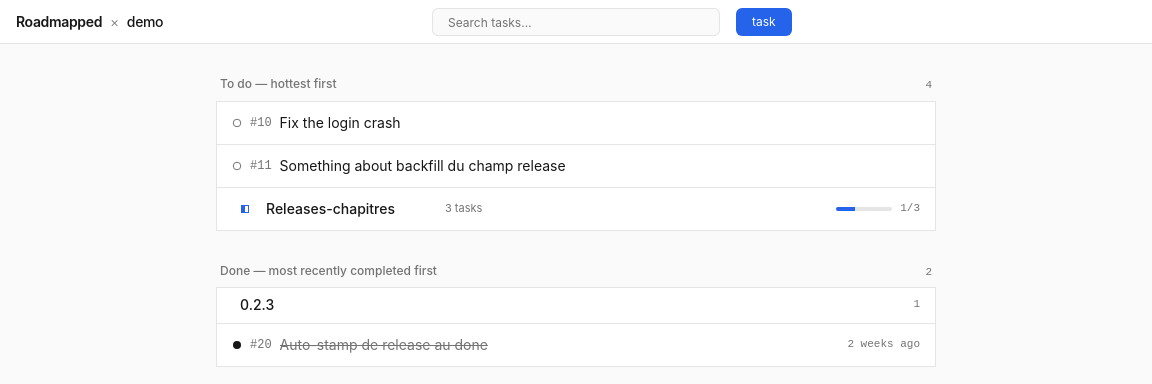
Test: Backlog search (#348) › un ticket OUVERT matché DANS un epic est VISIBLE en recherche (epic déplié, #348)
The width and height of the screenshot is (1152, 384).
Type "Backfill épique" into the field labelled "Search tasks" at (580, 22), box [448,16,712,28]
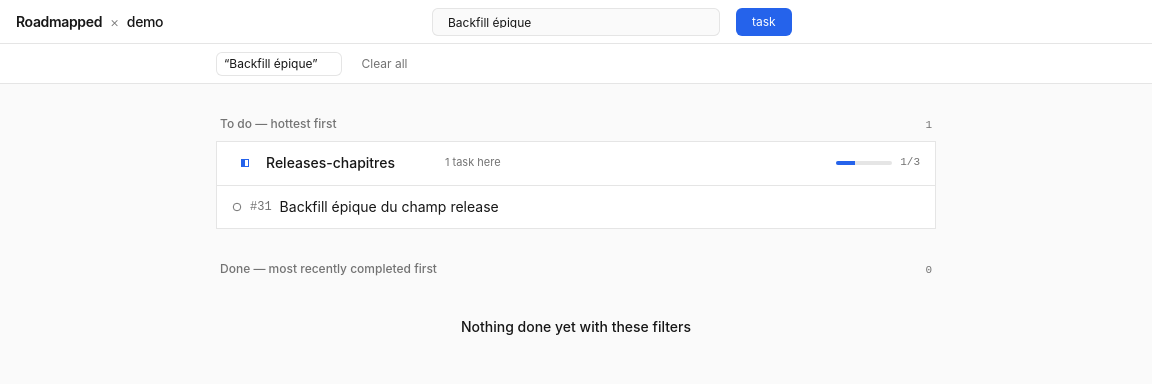
Expected: the text "Backfill épique du champ release" is shown, [280,197,499,217]
